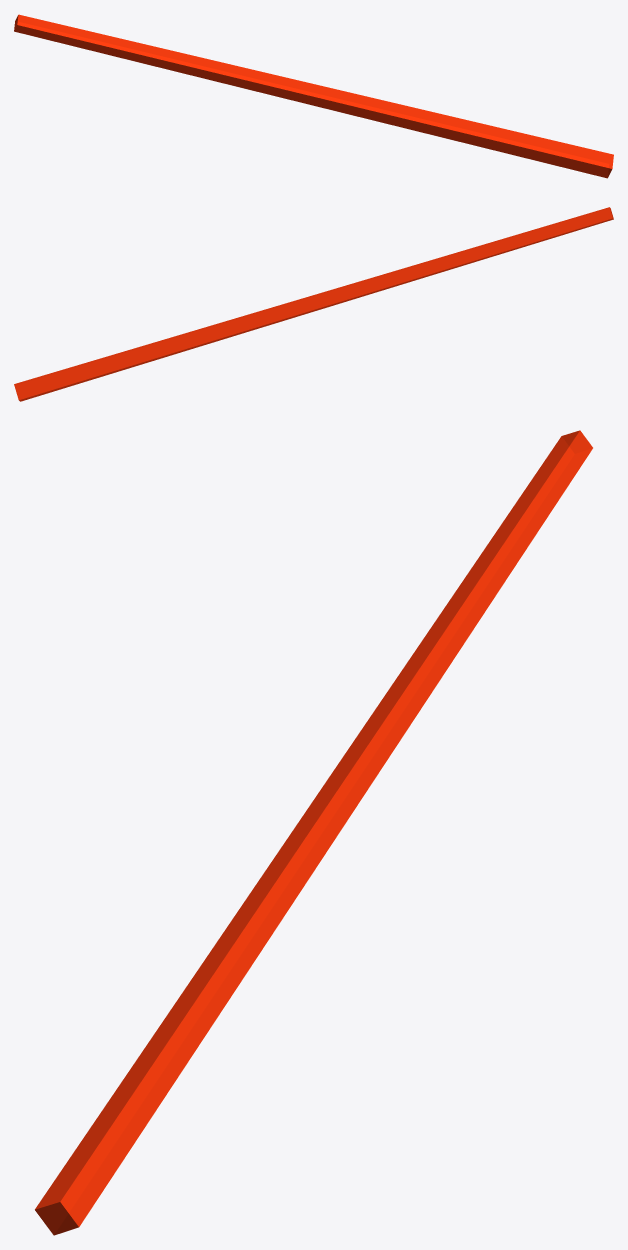
File: Event_421278790_EBrechit_14.fbx
The picture shows the model from 3 angles, top to bottom: view 1: azimuth 30°, elevation 25°; view 2: azimuth 210°, elevation 25°; view 3: azimuth 270°, elevation 25°; orthographic projection. The views are drawn at different scales.
Parts seen in each view (by area): view 1: Model; view 2: Model; view 3: Model.
Boxes of the visible parts, <box> form: Model: <box>14,14,613,178</box>; Model: <box>14,207,613,401</box>; Model: <box>35,430,592,1235</box>.
Bounding box in the file's own units: 2.56 × 0.931 × 1.31.
